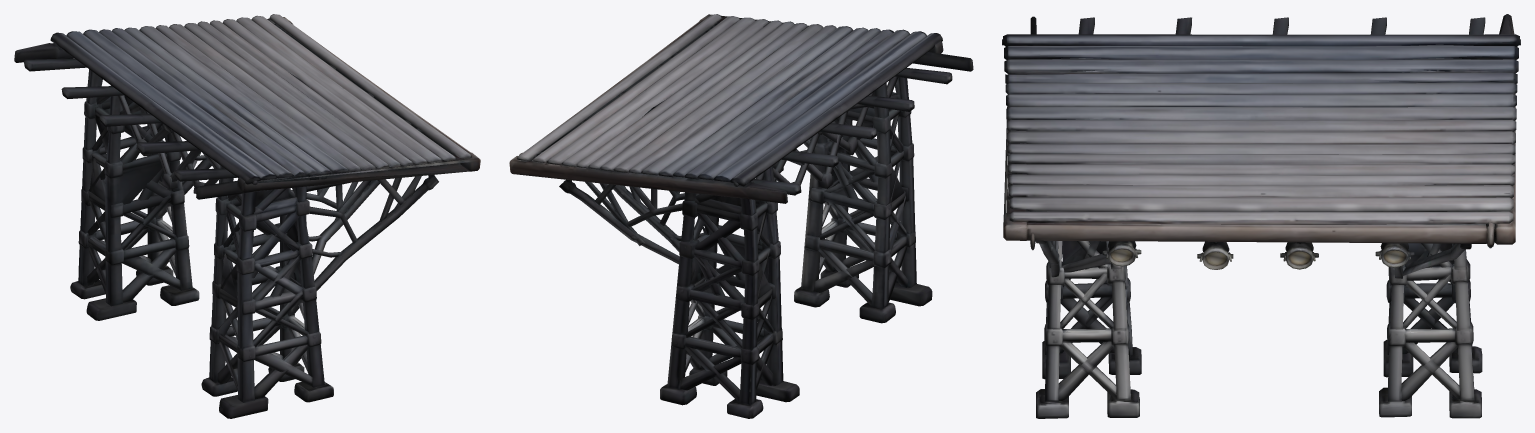
3 renders of one model, left to right at view 1: azimuth 30°, elevation 25°; view 2: azimuth 150°, elevation 25°; view 3: azimuth 270°, elevation 25°, orthographic. The views are drawn at different scales.
Parts seen in each view (by area): view 1: tripo_node_1f46d3e6-618f-47f1-8433-5d6c96b8295a; view 2: tripo_node_1f46d3e6-618f-47f1-8433-5d6c96b8295a; view 3: tripo_node_1f46d3e6-618f-47f1-8433-5d6c96b8295a.
Part boxes in pixels (x1=…): tripo_node_1f46d3e6-618f-47f1-8433-5d6c96b8295a: x1=14, y1=14, x2=480, y2=418; tripo_node_1f46d3e6-618f-47f1-8433-5d6c96b8295a: x1=509, y1=14, x2=973, y2=418; tripo_node_1f46d3e6-618f-47f1-8433-5d6c96b8295a: x1=1002, y1=14, x2=1520, y2=418.
Size of the model in its own units: 0.7944 by 0.6919 by 0.9995.
1 material, 1 textured.
